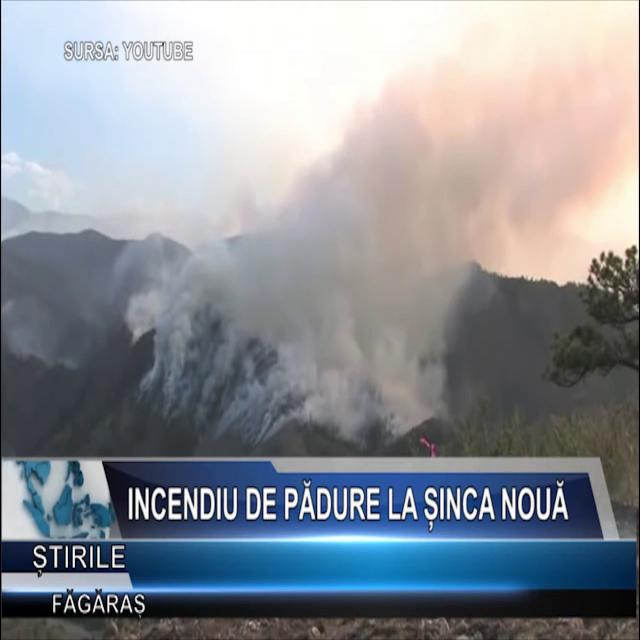Smoke: (143, 0, 625, 446)
